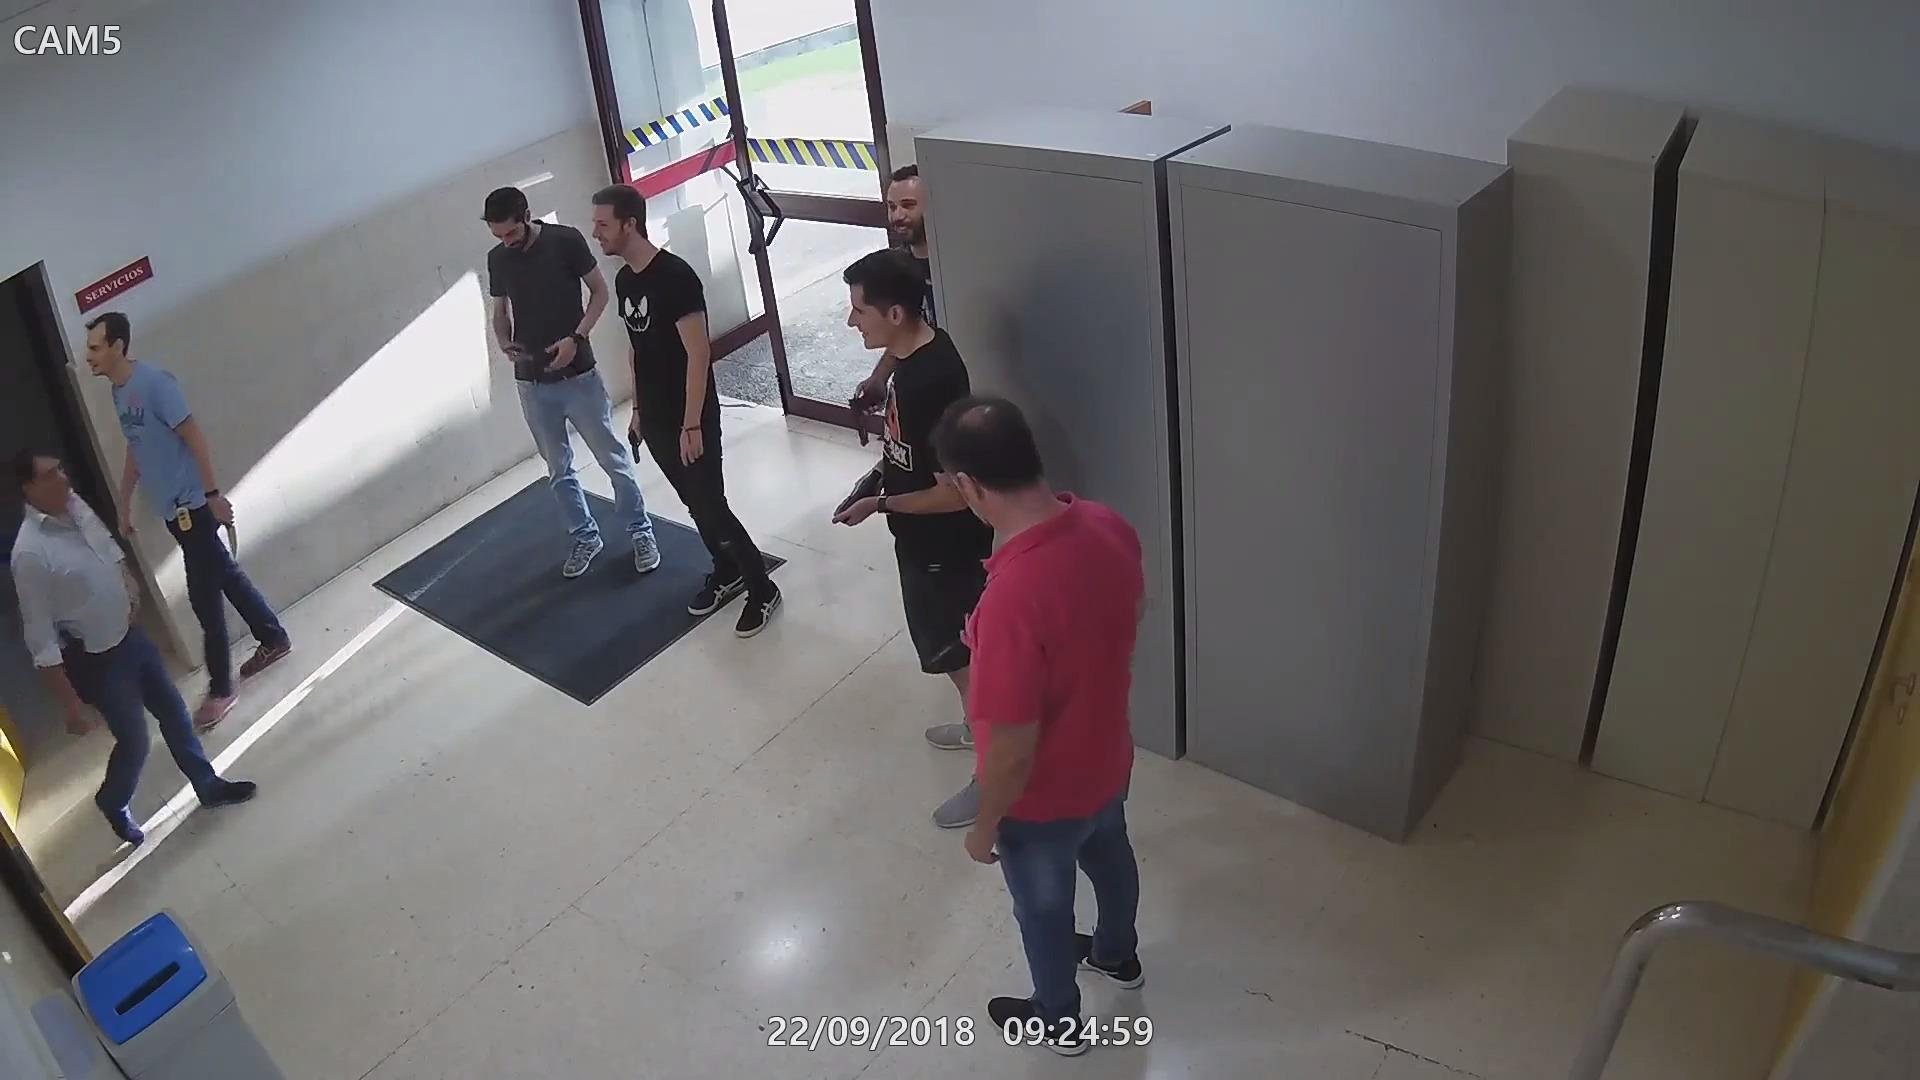Handgun: (916, 612, 977, 680), (833, 465, 889, 526), (841, 384, 893, 448), (55, 625, 94, 683), (498, 342, 564, 368), (621, 419, 649, 467)
